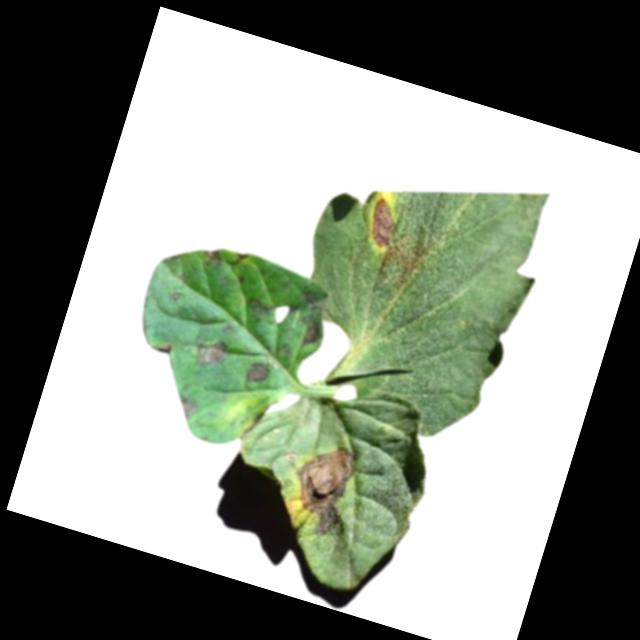Early_blight: (279, 436, 367, 540), (361, 195, 404, 250), (188, 330, 231, 371), (240, 356, 271, 385), (172, 391, 200, 421), (300, 318, 324, 348), (202, 244, 223, 261)
